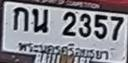letters: (31, 7, 50, 35), (12, 5, 29, 33), (61, 10, 77, 38), (93, 13, 109, 41), (109, 15, 125, 42), (78, 12, 93, 39)
province: (18, 41, 111, 60)
